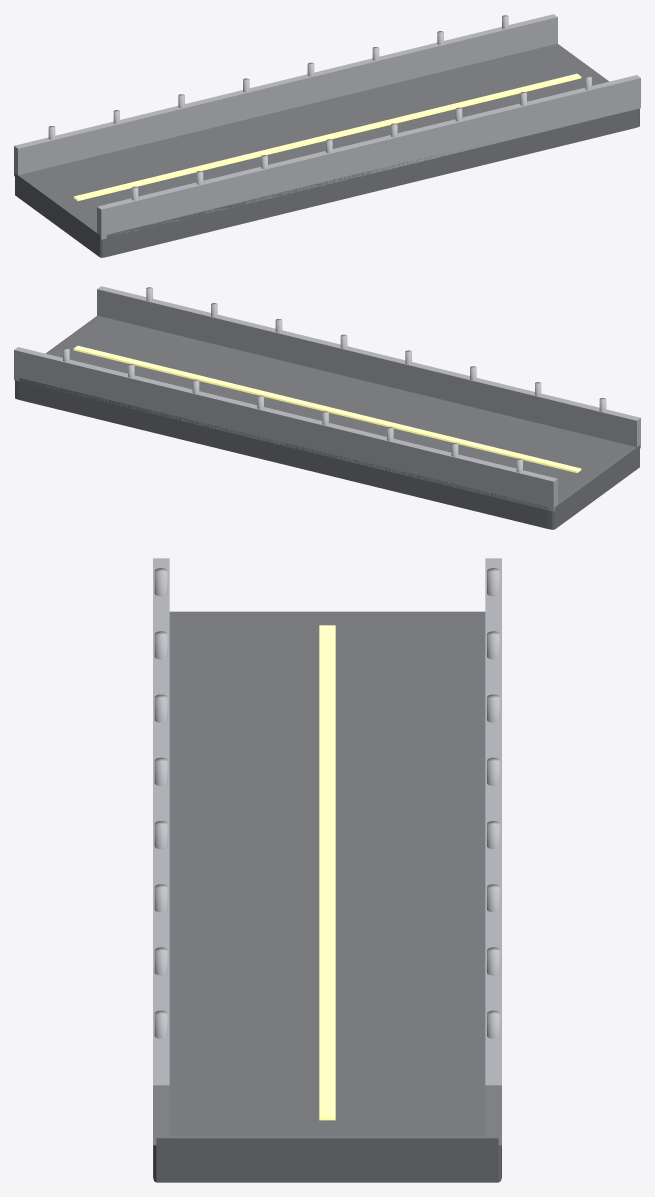
Rendered from bridge_deck.glb.
3 renders of one model, top to bottom at view 1: azimuth 30°, elevation 25°; view 2: azimuth 150°, elevation 25°; view 3: azimuth 270°, elevation 25°, orthographic. The views are drawn at different scales.
Visible parts, largest first — view 1: Cube; view 2: Cube; view 3: Cube.
Boxes of the visible parts, x1,y1,x2,y2 form: Cube: (14, 14, 640, 257); Cube: (14, 286, 640, 529); Cube: (153, 558, 501, 1182).
Size of the model in its own units: 1.5 by 0.16 by 0.42.
